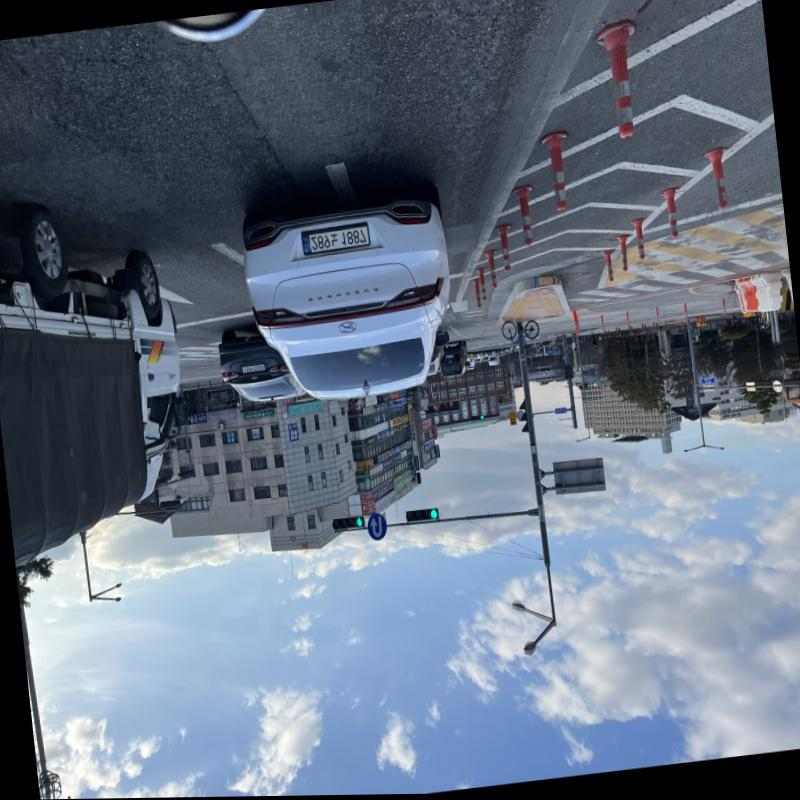green: (429, 509, 439, 520), (354, 517, 364, 527)
